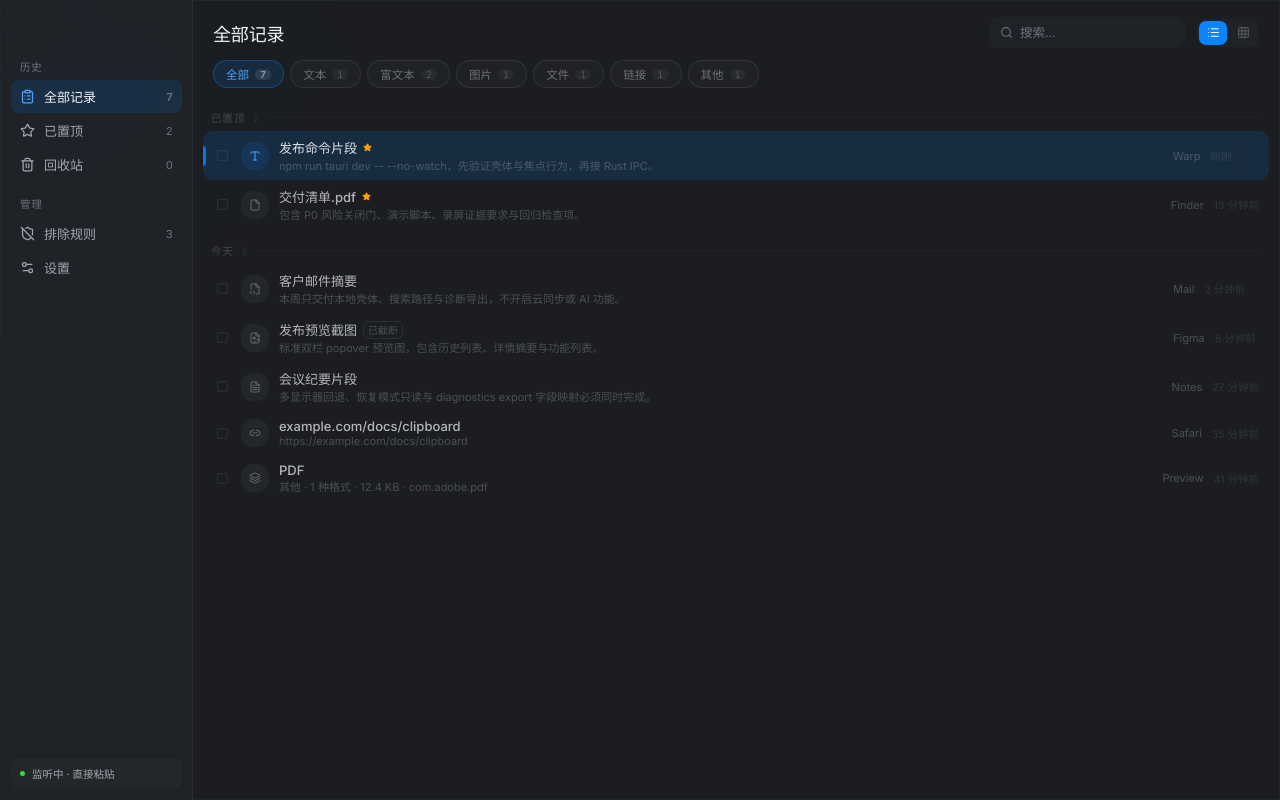
Test: MainApp › 已置顶视图不渲染类型 chips（chips 计数基于全量，避免误导）
Expected: the text "客户邮件摘要" is shown, 279,271 -> 357,290
Click the 2nd text "已置顶" at (64, 131), box 44,123 -> 83,139
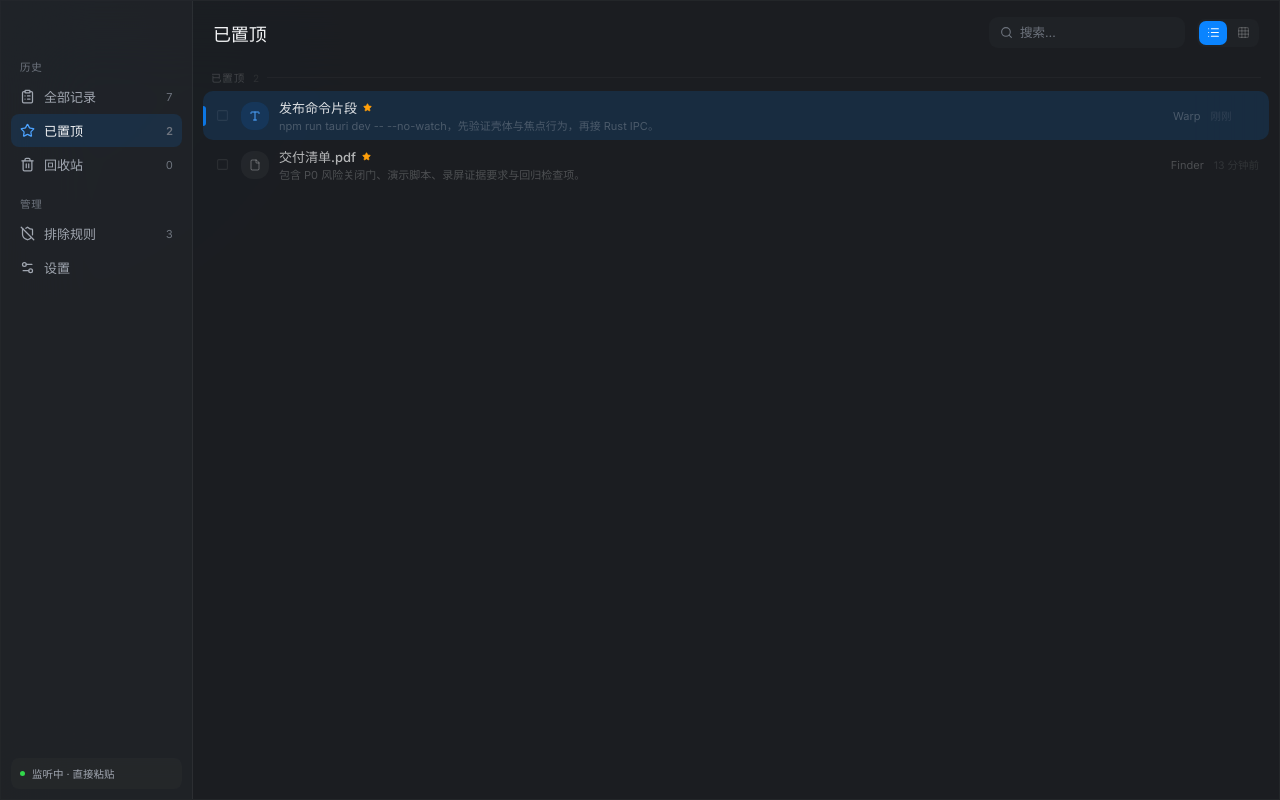
Result: the heading "已置顶" is shown at 213,24 -> 266,44
Result: the button "文本" is gone
// ⌘1 仍能从已置顶退回全部记录（键盘路径与侧栏一致）
Press 1
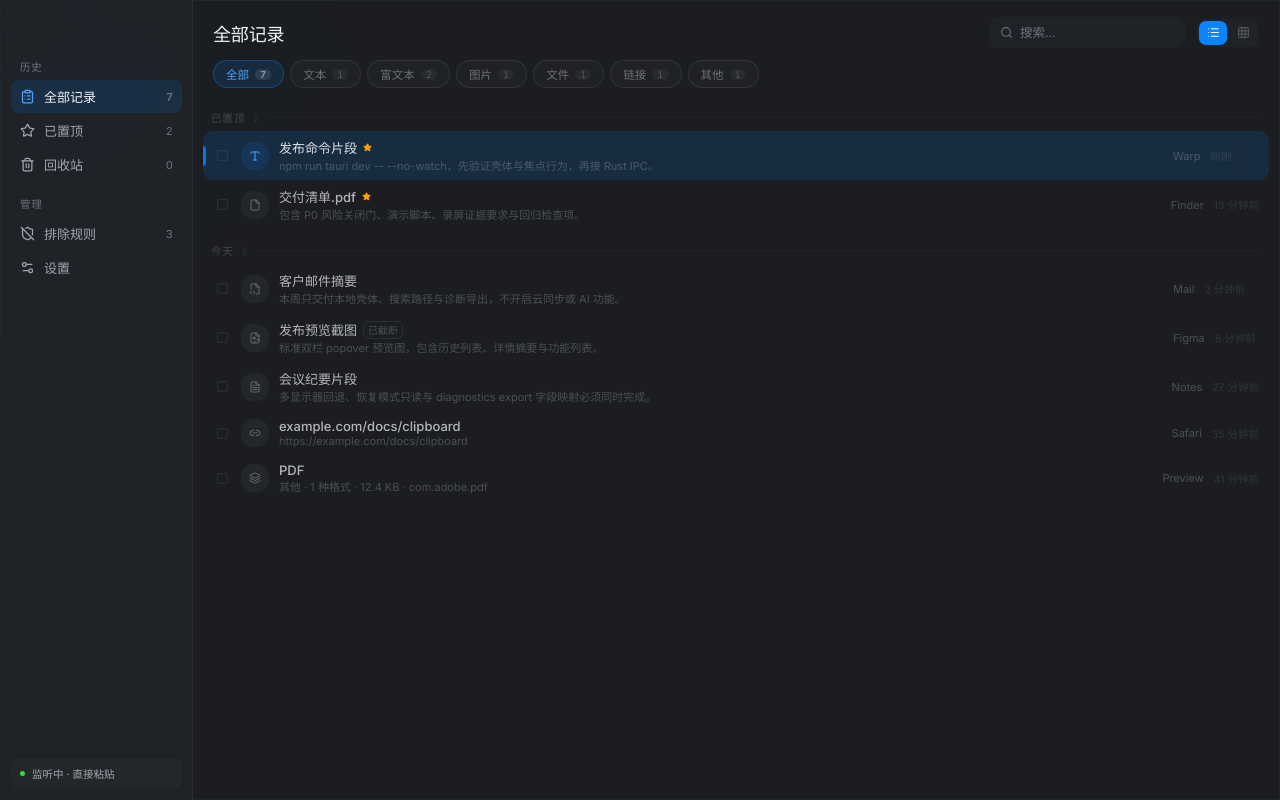
Result: the heading "全部记录" is shown at 213,24 -> 284,44
Result: the button "文本 1" is shown at 290,60 -> 361,88
